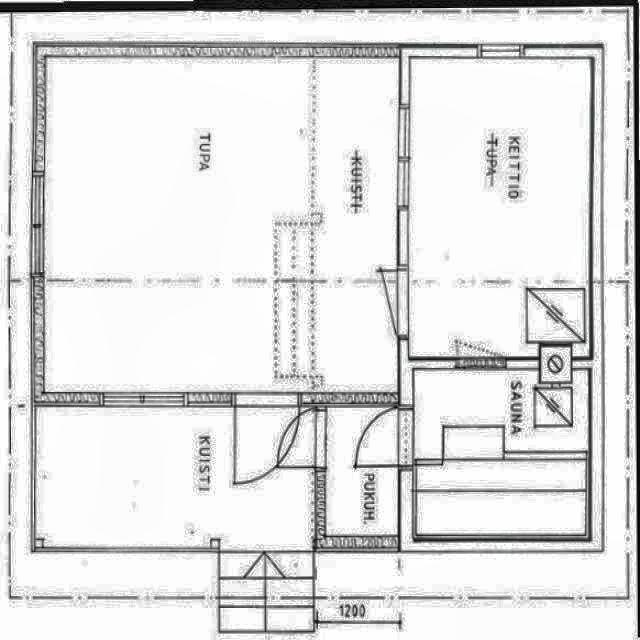room: (43, 56, 400, 392), (409, 58, 591, 358), (34, 404, 315, 548), (414, 369, 589, 538), (326, 408, 399, 535)
